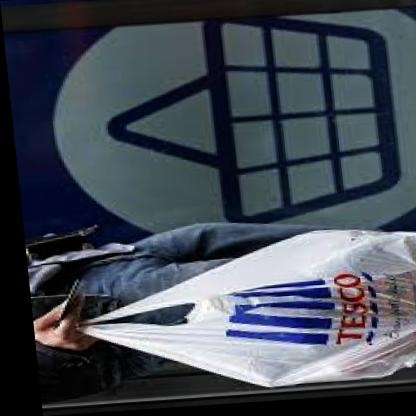trash: (81, 230, 415, 386)
